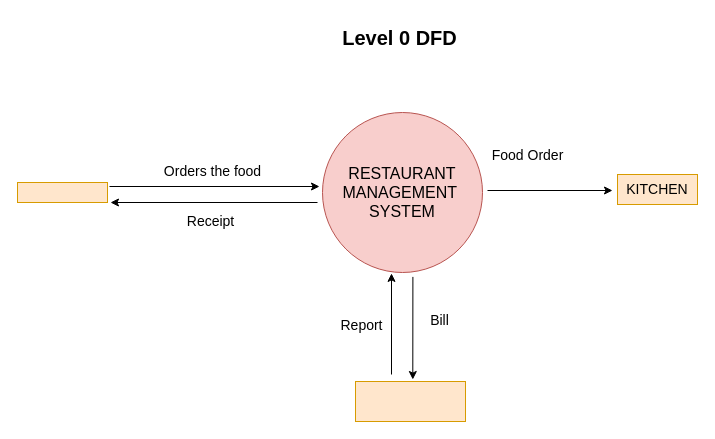
This 715x439 diagram has some shape labels left out. The shapes that lost their labels are listed below. From the top down, each one's box as (x1, y1, x2, y2) in pixels, then its label:
(16, 182, 108, 202): CUSTOMER
(354, 380, 466, 422): RESTAURANT MANAGER
